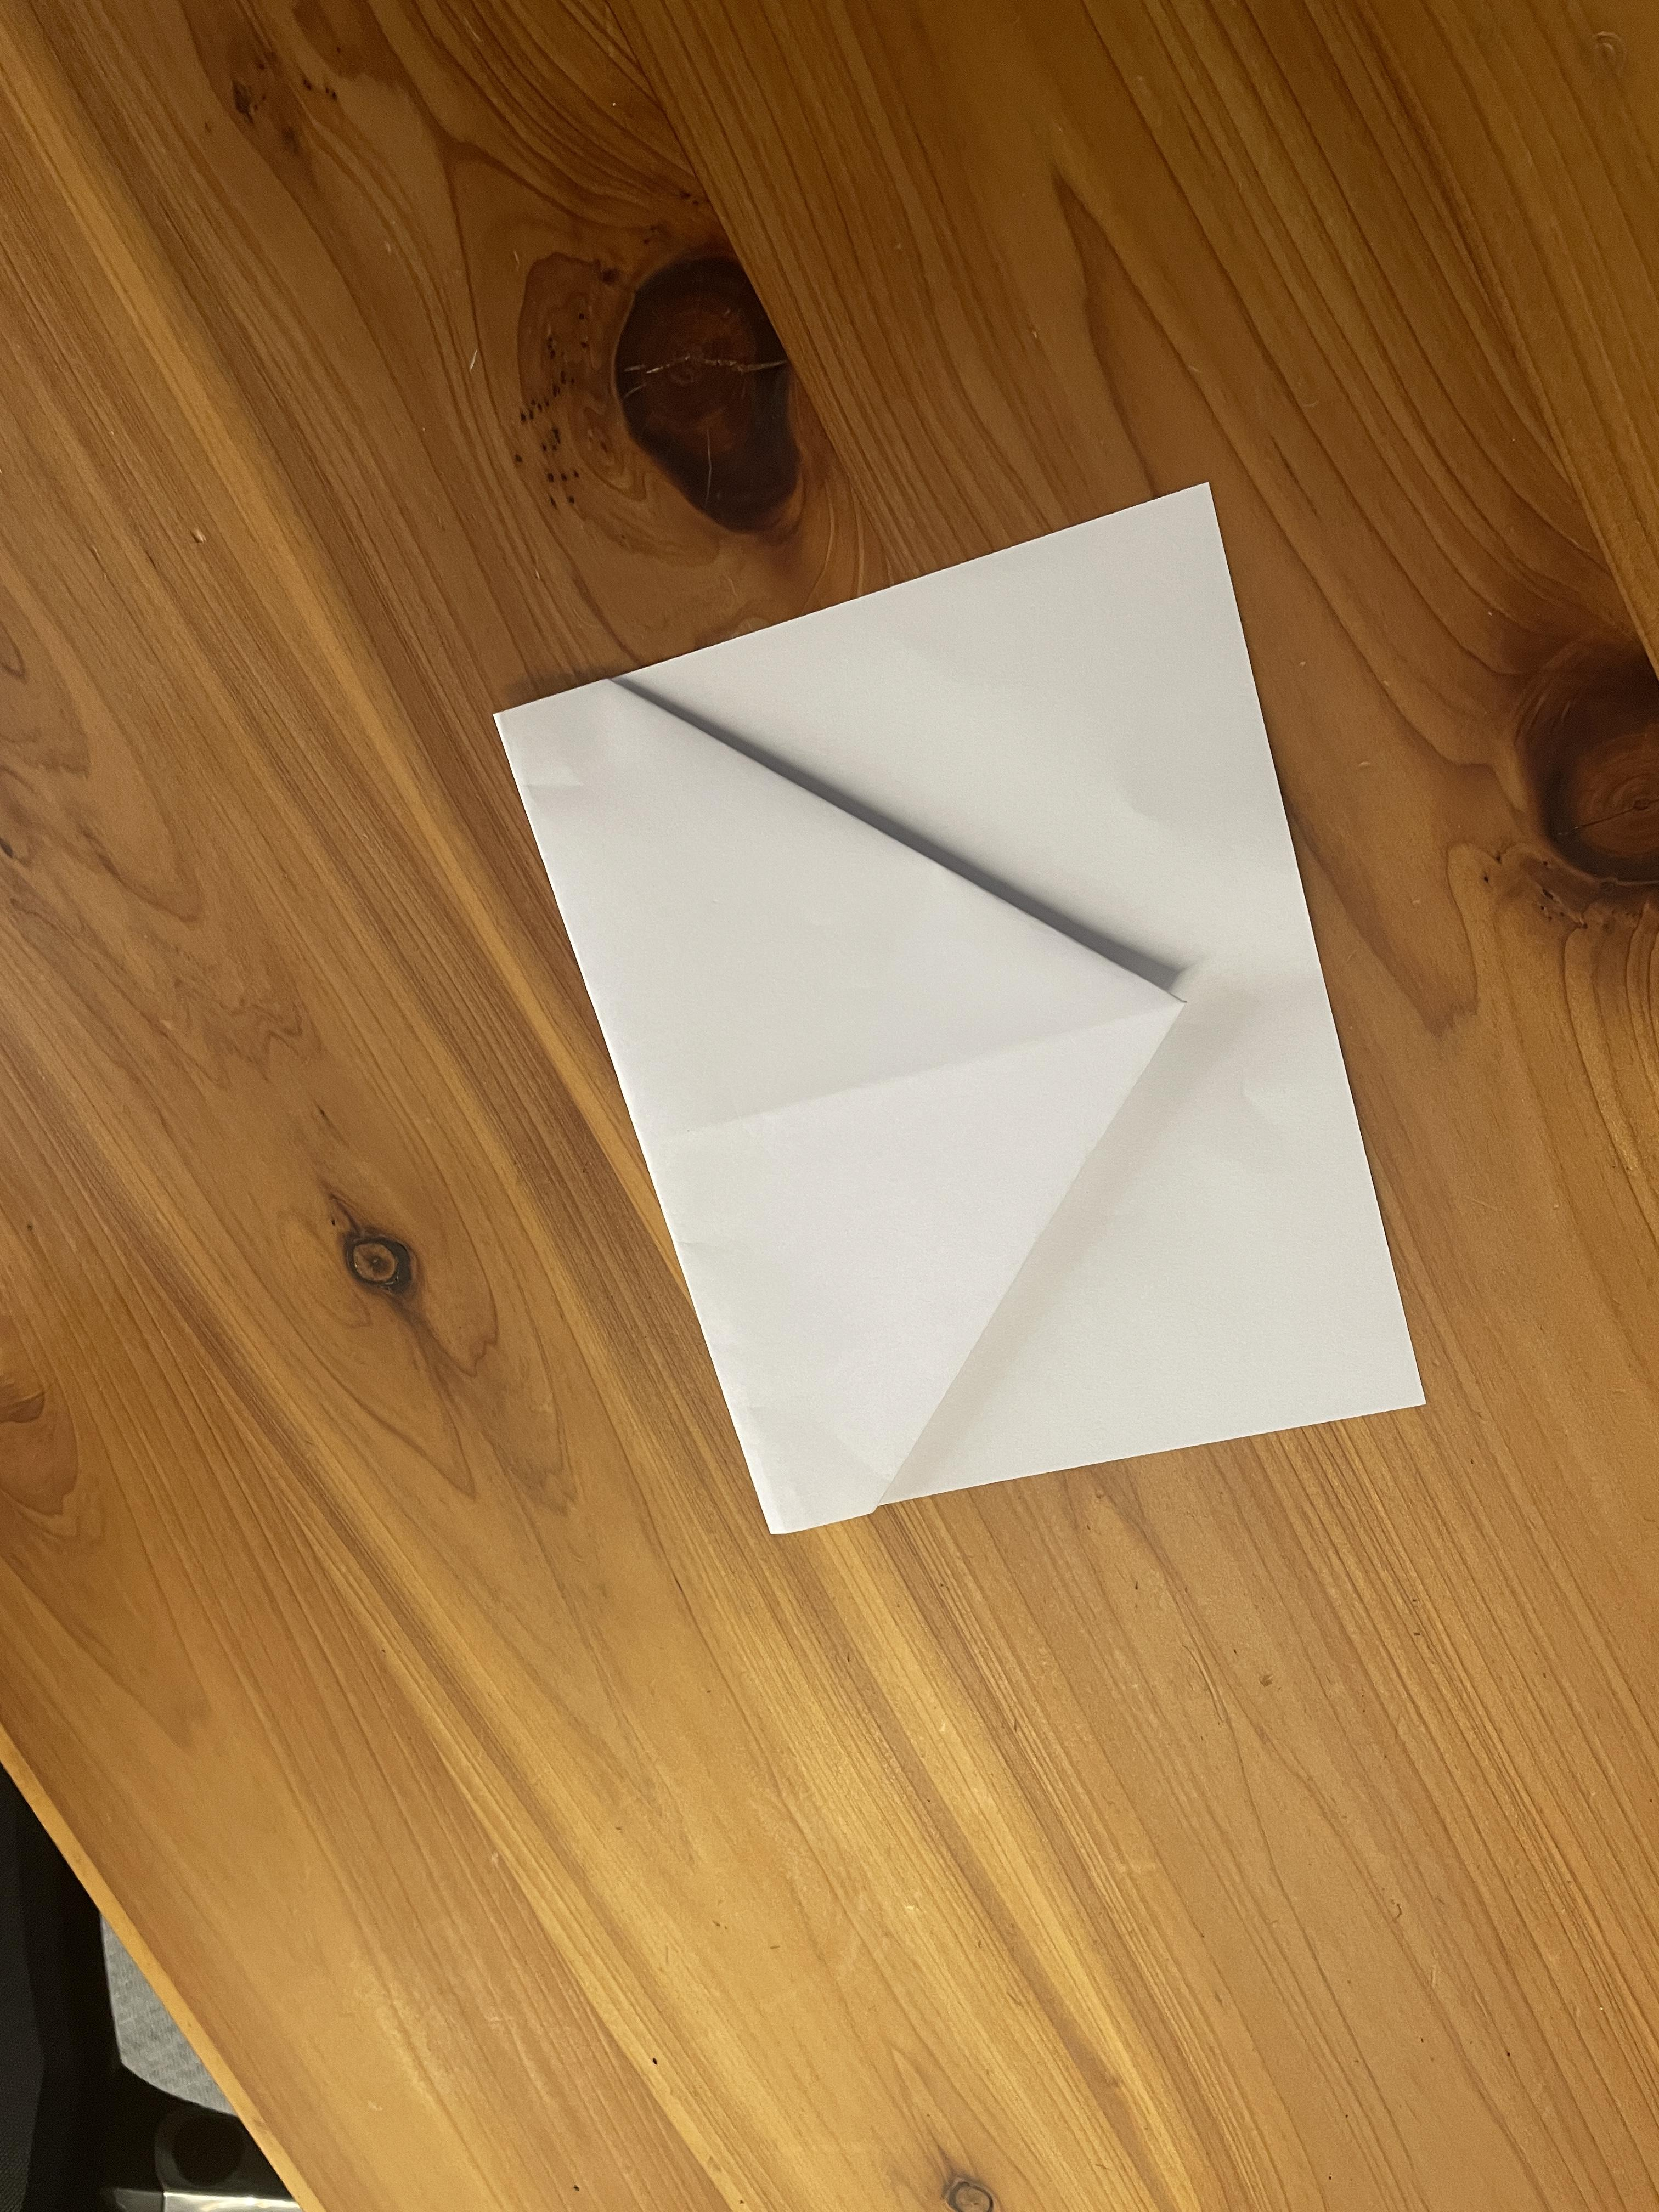shape_1: (422, 380, 1521, 1691)
